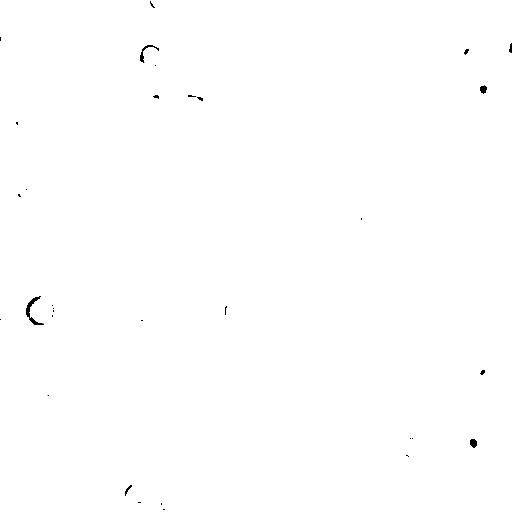micro-algae: (437, 379, 510, 453), (297, 379, 355, 434), (465, 69, 497, 103), (181, 65, 212, 99), (188, 11, 219, 45), (456, 422, 487, 455), (262, 165, 293, 198), (26, 294, 56, 328), (126, 62, 159, 92), (159, 387, 192, 414), (416, 0, 453, 24), (287, 319, 318, 347), (110, 328, 138, 357), (45, 378, 76, 404), (380, 324, 407, 353), (453, 37, 480, 64), (470, 357, 495, 386), (491, 26, 511, 59), (45, 421, 71, 446), (408, 497, 450, 512), (231, 45, 251, 75), (105, 66, 129, 91), (124, 481, 148, 505), (138, 43, 162, 67), (151, 308, 173, 333), (223, 299, 245, 324), (394, 435, 419, 457), (371, 172, 393, 196), (359, 210, 380, 235), (259, 286, 284, 305), (129, 303, 149, 326), (146, 450, 166, 473), (244, 358, 264, 381), (159, 491, 181, 511), (279, 473, 297, 496), (30, 173, 47, 197), (239, 144, 260, 163), (183, 98, 206, 115), (121, 365, 141, 384), (0, 115, 21, 133), (16, 184, 38, 201), (500, 41, 511, 75), (0, 38, 13, 65), (147, 0, 167, 10)
